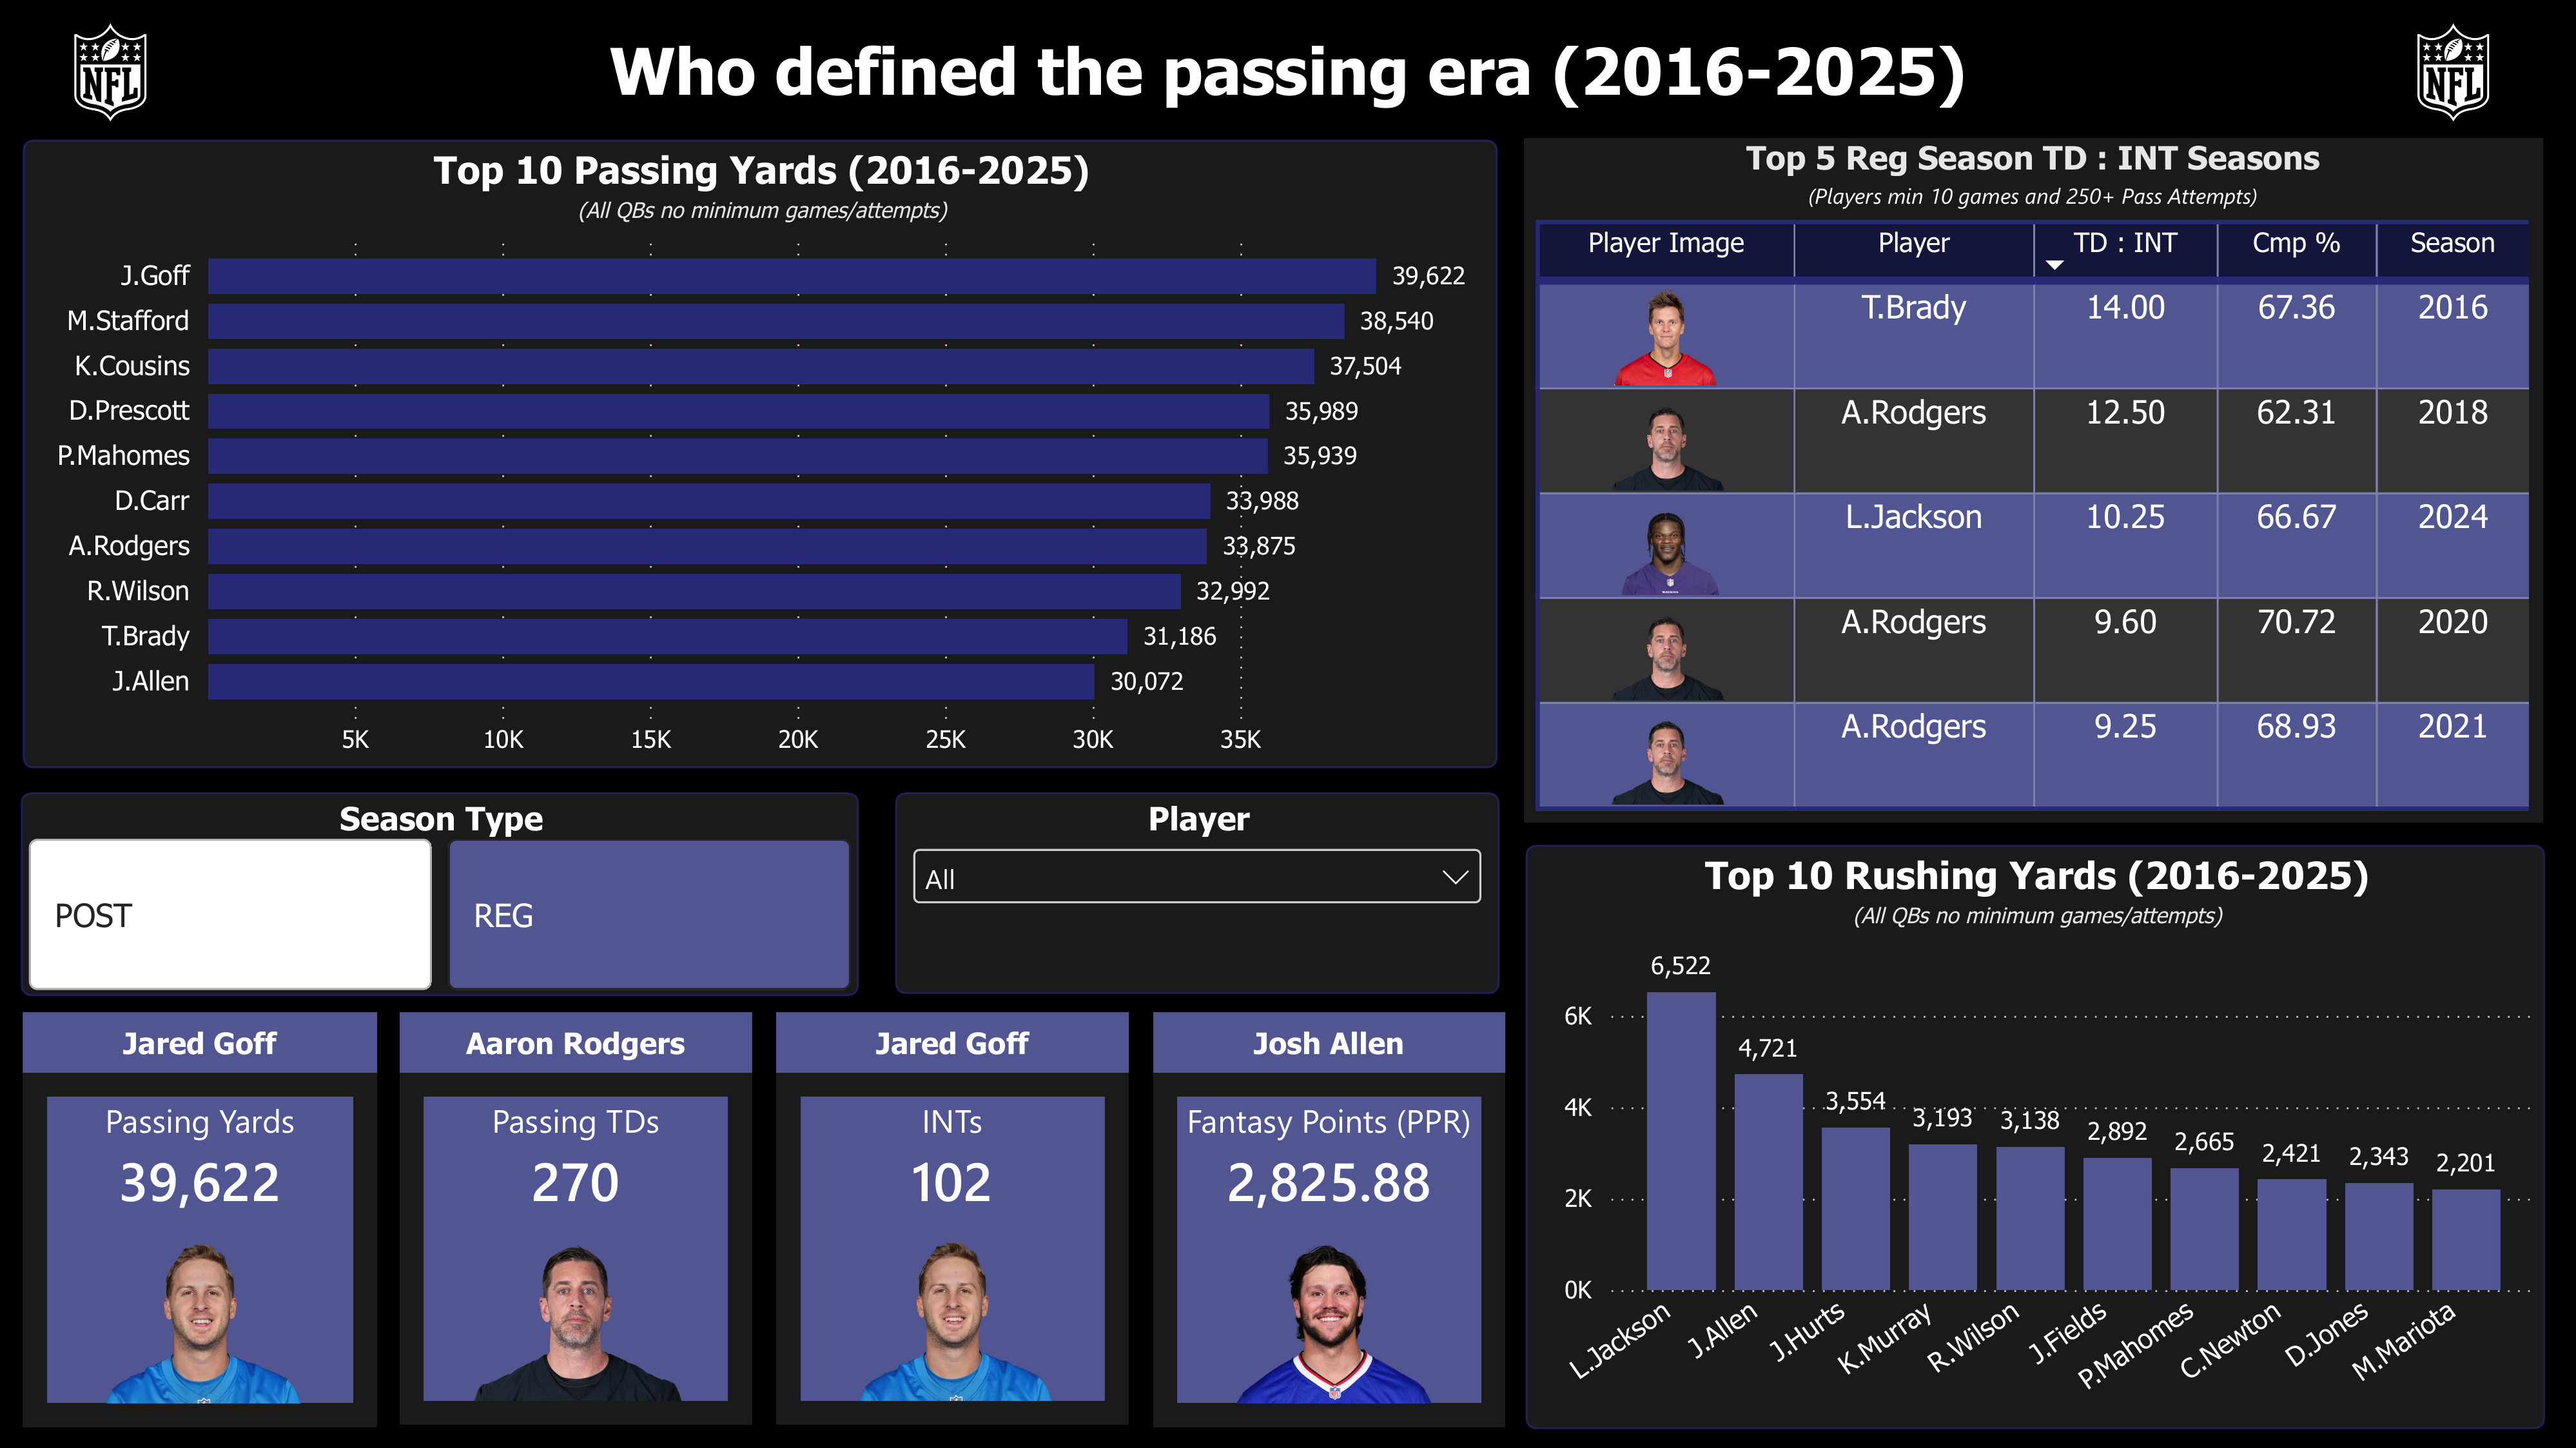

The dashboard page shown, as its layout file describes it:
{"tool":"powerbi","page":{"name":"QB Statistics","canvas":[1280,720],"ordinal":2},"visuals":[{"type":"textbox","box":[82.2,10.7,1115.5,72.7],"z":0},{"type":"clusteredBarChart","title":"Top 10 Passing Yards (2016-2025)","fields":{"Y":["Sum(qb_data_clean.passing_yards)"],"Category":["qb_data_clean.player_name"],"Series":["qb_data_clean.season_type"]},"box":[11.8,69.5,731.8,312.1],"z":1000},{"type":"tableEx","title":"Top 5 Reg Season TD : INT Seasons","fields":{"Values":["best_td_int_per_reg_season.Player Image","best_td_int_per_reg_season.Player","Max(best_td_int_per_reg_season.TD to INT Ratio)","best_td_int_per_reg_season.Completion Pct","best_td_int_per_reg_season.Season"]},"box":[757.3,69.2,506,340.1],"z":2000},{"type":"cardVisual","fields":{"Rows":["qb_data_clean.player_display_name"],"Data":["Sum(qb_data_clean.passing_yards)"]},"box":[12.2,503.3,175.5,205.4],"z":3000},{"type":"clusteredColumnChart","title":"Top 10 Rushing Yards (2016-2025)","fields":{"Category":["qb_data_clean.player_name"],"Y":["Sum(qb_data_clean.rushing_yards)"]},"box":[757.7,420.3,506,289.7],"z":4000},{"type":"advancedSlicerVisual","fields":{"Values":["qb_data_clean.season_type"]},"box":[10.9,394,416.2,100.7],"z":5000},{"type":"cardVisual","fields":{"Rows":["qb_data_clean.player_display_name"],"Data":["Sum(qb_data_clean.passing_tds)"]},"box":[199,503,175,205.4],"z":6000},{"type":"cardVisual","fields":{"Rows":["qb_data_clean.player_display_name"],"Data":["Sum(qb_data_clean.passing_interceptions)"]},"box":[386,503,175,205.4],"z":7000},{"type":"cardVisual","fields":{"Rows":["qb_data_clean.player_display_name"],"Data":["Sum(qb_data_clean.fantasy_points_ppr)"]},"box":[573,503,175,206],"z":8000},{"type":"slicer","title":"Player","fields":{"Values":["qb_data_clean.player_display_name"]},"box":[444.8,394.5,300.6,100],"z":9000},{"type":"image","box":[10.7,10.7,89.4,51.2],"z":10000},{"type":"image","box":[1173.9,10.7,89.4,51.2],"z":11000}]}

Visuals, with their boxes in screenshot pixels (x1, y1, x2, y2), scaled from the page's 1280x720 canvas onto the 2576x1448 screenshot:
textbox: [x1=166, y1=21, x2=2410, y2=168]
"Top 10 Passing Yards (2016-2025)" clusteredBarChart: [x1=24, y1=140, x2=1496, y2=767]
"Top 5 Reg Season TD : INT Seasons" tableEx: [x1=1524, y1=139, x2=2542, y2=823]
cardVisual - qb_data_clean.player_display_name x Sum(qb_data_clean.passing_yards): [x1=24, y1=1012, x2=378, y2=1425]
"Top 10 Rushing Yards (2016-2025)" clusteredColumnChart: [x1=1525, y1=845, x2=2543, y2=1428]
advancedSlicerVisual - qb_data_clean.season_type: [x1=22, y1=792, x2=859, y2=995]
cardVisual - qb_data_clean.player_display_name x Sum(qb_data_clean.passing_tds): [x1=400, y1=1012, x2=753, y2=1425]
cardVisual - qb_data_clean.player_display_name x Sum(qb_data_clean.passing_interceptions): [x1=777, y1=1012, x2=1129, y2=1425]
cardVisual - qb_data_clean.player_display_name x Sum(qb_data_clean.fantasy_points_ppr): [x1=1153, y1=1012, x2=1505, y2=1426]
"Player" slicer: [x1=895, y1=794, x2=1500, y2=995]
image: [x1=21, y1=21, x2=201, y2=124]
image: [x1=2363, y1=21, x2=2542, y2=124]
